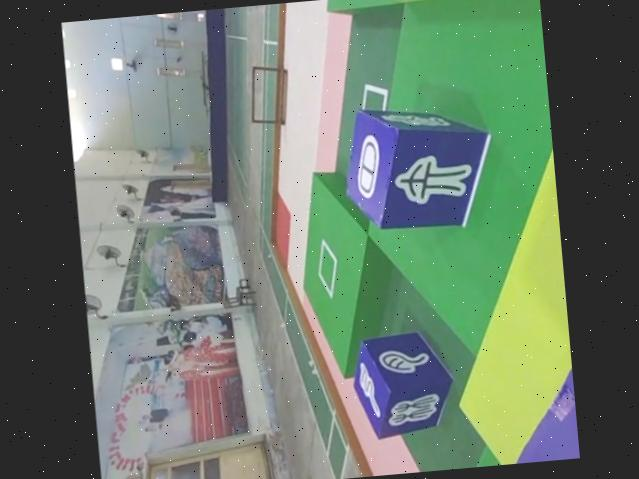R2 Fake Blue: (339, 95, 499, 235), (349, 328, 459, 440)
